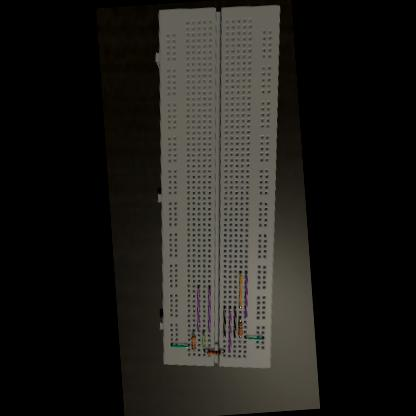breadboard: (138, 0, 305, 374)
resistor: (207, 348, 221, 356), (238, 320, 244, 336), (192, 334, 198, 349)
wire: (195, 284, 203, 332), (206, 284, 214, 332), (226, 305, 234, 352), (243, 270, 251, 317), (237, 270, 244, 308), (222, 305, 228, 337), (232, 306, 238, 338), (172, 341, 190, 348), (246, 334, 264, 340), (202, 329, 206, 346), (204, 348, 208, 352), (240, 315, 242, 321), (221, 349, 224, 352), (193, 328, 194, 334), (194, 350, 194, 351), (239, 336, 240, 336)
